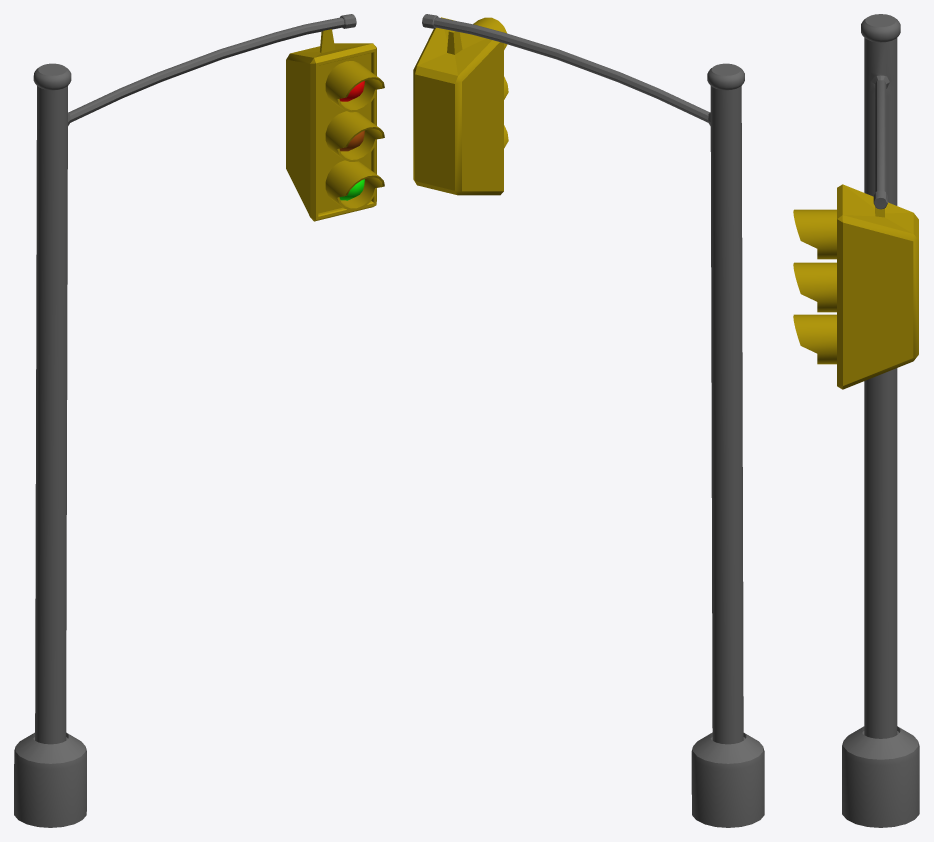
The model's file is Traffic Light.FBX.
The picture shows the model from 3 angles, left to right: view 1: azimuth 30°, elevation 25°; view 2: azimuth 150°, elevation 25°; view 3: azimuth 270°, elevation 25°; orthographic projection. The views are drawn at different scales.
Parts seen in each view (by area): view 1: Box011, Box012, Cylinder001, Sphere001; view 2: Box011, Box012; view 3: Box011, Box012, Cylinder001.
Part boxes in pixels (bbox=[...]): Box011: bbox=[14, 14, 356, 827]; Box012: bbox=[286, 29, 376, 221]; Cylinder001: bbox=[325, 61, 384, 210]; Sphere001: bbox=[339, 81, 364, 200]; Box011: bbox=[422, 14, 764, 827]; Box012: bbox=[413, 17, 503, 195]; Box011: bbox=[842, 14, 919, 827]; Box012: bbox=[837, 184, 918, 389]; Cylinder001: bbox=[793, 209, 836, 364].
Bounding box in the file's own units: 72.53 × 151 × 21.82.
